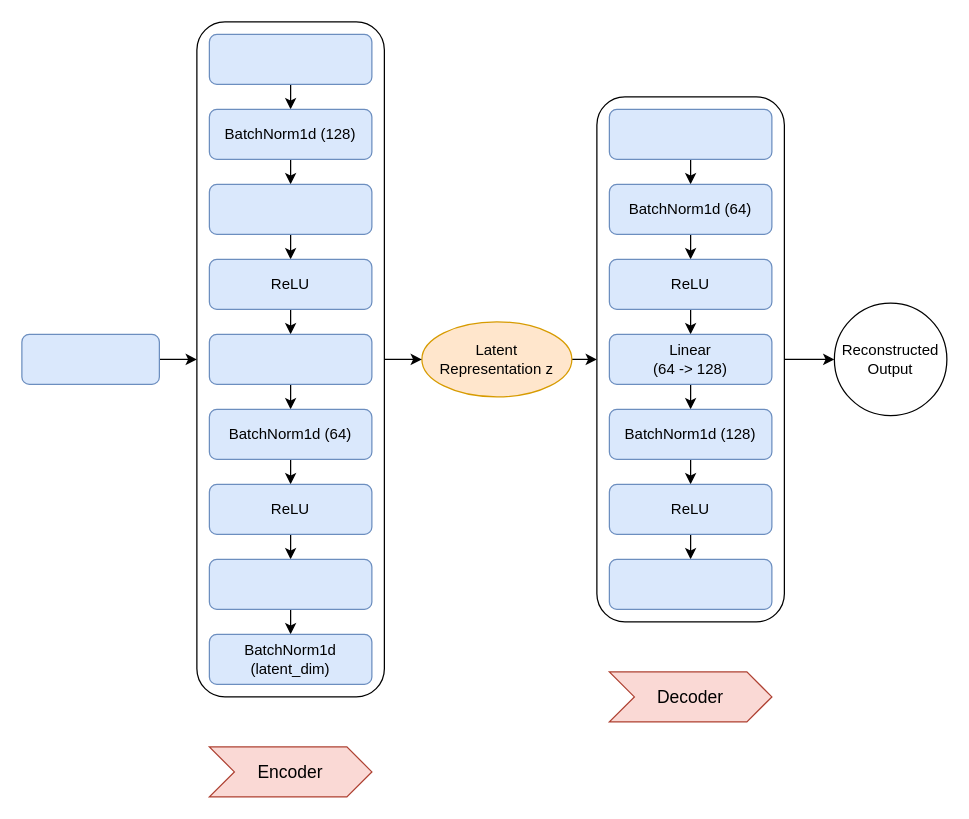
Some shapes in this 969 by 819 pixel diagram are drawn without their labels. The shapes that lost their labels are listed below. From the top down, each one's centre as x and y in pixels, then its label:
At (290,58): "Linear (n_features -> 128)".
At (690,133): "Linear (latent_dim -> 64)".
At (290,208): "Dropout (0.1)".
At (90,358): "Input (n_features)".
At (290,358): "Linear (128 -> 64)".
At (290,583): "Linear (64 -> latent_dim)".
At (690,583): "Linear (128 -> n_features)".
